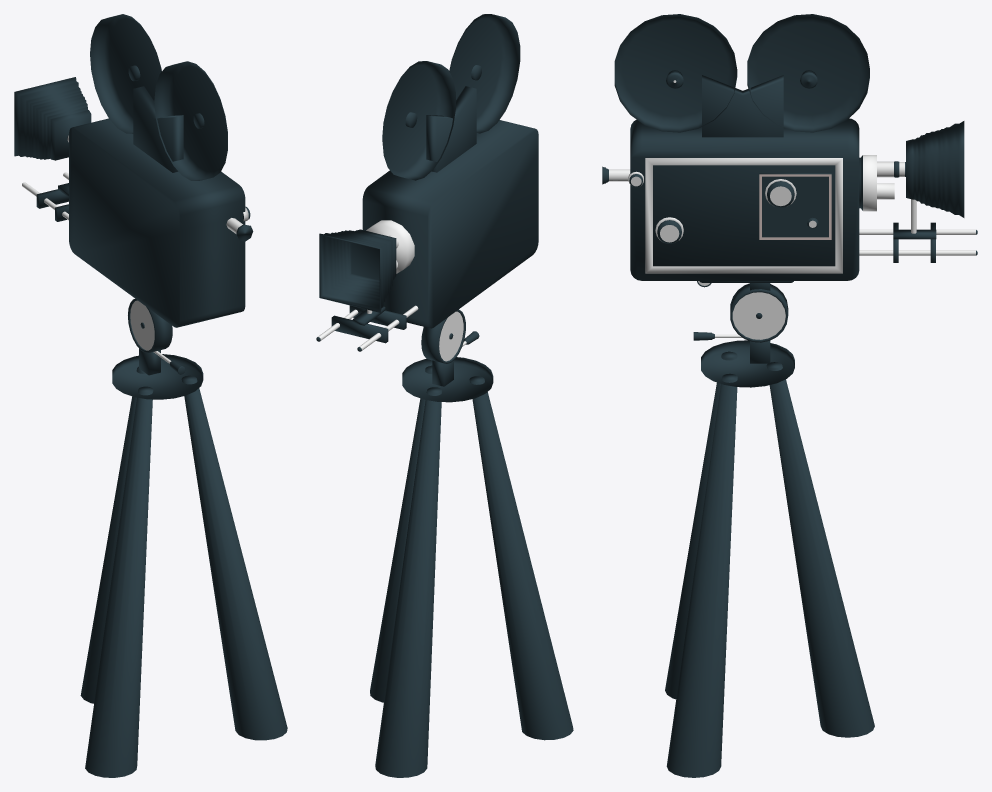
The model's file is camera.glb.
3 renders of one model, left to right at view 1: azimuth 30°, elevation 25°; view 2: azimuth 150°, elevation 25°; view 3: azimuth 270°, elevation 25°, orthographic. The views are drawn at different scales.
Visible parts, largest first — view 1: plastic; view 2: plastic; view 3: plastic.
Part boxes in pixels (bbox=[...]): plastic: bbox=[14, 14, 287, 777]; plastic: bbox=[316, 14, 573, 777]; plastic: bbox=[602, 14, 977, 777].
Size of the model in its own units: 1.63 by 5.46 by 2.62.
Materials: 3 (1 with a texture image).
